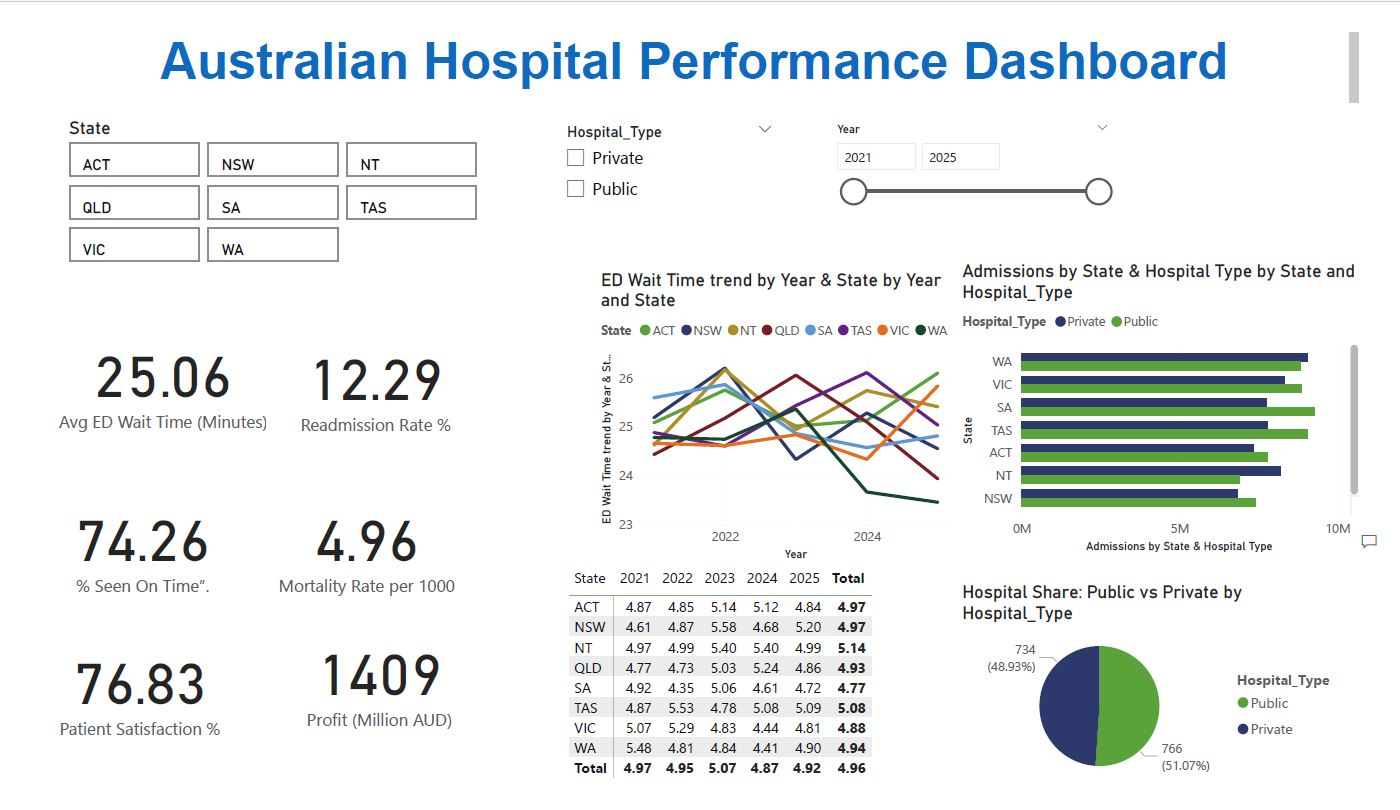

The page's visual inventory and layout, read from the dashboard file:
{"tool":"powerbi","page":{"name":"Page 4","canvas":[1280,720],"ordinal":0},"visuals":[{"type":"textbox","box":[9.6,0,1256,79.3],"z":0},{"type":"card","fields":{"Values":["Avg(AU_Healthcare_1500_Rows.ED_Wait_Min)"]},"box":[29,279,208,119],"z":1000},{"type":"lineStackedColumnComboChart","fields":{"Category":["AU_Healthcare_1500_Rows.Year"],"Series":["AU_Healthcare_1500_Rows.State"],"Y":["Avg(AU_Healthcare_1500_Rows.ED_Wait_Min)"]},"box":[523,220,335,269],"z":2000},{"type":"card","fields":{"Values":["Avg(AU_Healthcare_1500_Rows.Seen_On_Time_Percent)"]},"box":[29,433,208,111],"z":3000},{"type":"card","fields":{"Values":["Avg(AU_Healthcare_1500_Rows.Patient_Satisfaction_Percent)"]},"box":[29,579,208,111],"z":4000},{"type":"card","fields":{"Values":["Avg(AU_Healthcare_1500_Rows.Readmission_30_Days_Percent)"]},"box":[270,279,207,124],"z":5000},{"type":"card","fields":{"Values":["Avg(AU_Healthcare_1500_Rows.Mortality_Per_1000)"]},"box":[262,433,215,111],"z":6000},{"type":"card","fields":{"Values":["Count(AU_Healthcare_1500_Rows.Profit_AUD)"]},"box":[262,576,215,118],"z":7000},{"type":"advancedSlicerVisual","fields":{"Values":["AU_Healthcare_1500_Rows.State"]},"box":[39,85,396,143],"z":8000},{"type":"slicer","fields":{"Values":["AU_Healthcare_1500_Rows.Hospital_Type"]},"box":[498,85,219,123],"z":9000},{"type":"slicer","fields":{"Values":["AU_Healthcare_1500_Rows.Year"]},"box":[756,85,281,106],"z":10000},{"type":"clusteredBarChart","fields":{"Series":["AU_Healthcare_1500_Rows.Hospital_Type"],"Category":["AU_Healthcare_1500_Rows.State"],"Y":["Sum(AU_Healthcare_1500_Rows.Admissions)"]},"box":[882.2,219.9,383.4,280],"z":11000},{"type":"pieChart","fields":{"Category":["AU_Healthcare_1500_Rows.State","AU_Healthcare_1500_Rows.Year"],"Y":["Avg(AU_Healthcare_1500_Rows.Mortality_Per_1000)"]},"box":[535,504,323,216],"z":12000},{"type":"donutChart","fields":{"Category":["AU_Healthcare_1500_Rows.Hospital_Type"],"Y":["CountNonNull(AU_Healthcare_1500_Rows.Hospital_Type)"]},"box":[882.2,522.8,372.6,197.1],"z":13000},{"type":"qnaVisual","box":[1255,444,25,56],"z":14000}]}

Visuals, with their boxes in screenshot pixels (x1, y1, x2, y2), scaled from the page's 1280x720 canvas onto the 1400x810 screenshot:
textbox: (10, 0, 1384, 89)
card - Avg(AU_Healthcare_1500_Rows.ED_Wait_Min): (32, 314, 259, 448)
lineStackedColumnComboChart - AU_Healthcare_1500_Rows.Year x AU_Healthcare_1500_Rows.State: (572, 248, 938, 550)
card - Avg(AU_Healthcare_1500_Rows.Seen_On_Time_Percent): (32, 487, 259, 612)
card - Avg(AU_Healthcare_1500_Rows.Patient_Satisfaction_Percent): (32, 651, 259, 776)
card - Avg(AU_Healthcare_1500_Rows.Readmission_30_Days_Percent): (295, 314, 522, 453)
card - Avg(AU_Healthcare_1500_Rows.Mortality_Per_1000): (287, 487, 522, 612)
card - Count(AU_Healthcare_1500_Rows.Profit_AUD): (287, 648, 522, 781)
advancedSlicerVisual - AU_Healthcare_1500_Rows.State: (43, 96, 476, 256)
slicer - AU_Healthcare_1500_Rows.Hospital_Type: (545, 96, 784, 234)
slicer - AU_Healthcare_1500_Rows.Year: (827, 96, 1134, 215)
clusteredBarChart - AU_Healthcare_1500_Rows.Hospital_Type x AU_Healthcare_1500_Rows.State: (965, 247, 1384, 562)
pieChart - AU_Healthcare_1500_Rows.State x AU_Healthcare_1500_Rows.Year: (585, 567, 938, 809)
donutChart - AU_Healthcare_1500_Rows.Hospital_Type x CountNonNull(AU_Healthcare_1500_Rows.Hospital_Type): (965, 588, 1372, 809)
qnaVisual: (1373, 500, 1399, 562)
